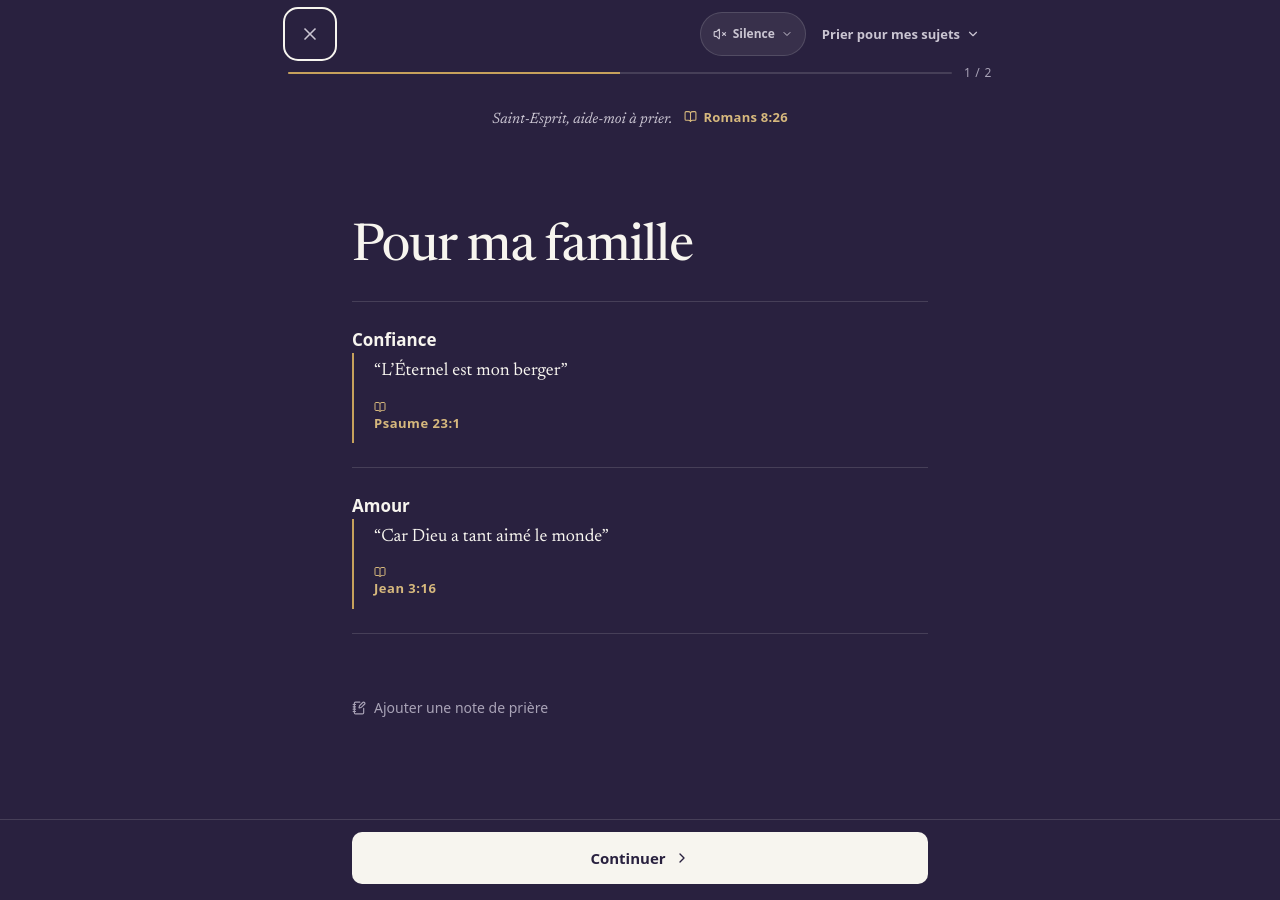
it: PrayerSession — format change protects progress › before any progress, switching restarts freely
What coordinates should you click on to do the following:
click the button titled "Format de prière"
I would click on:
 (901, 34)
Its box is [810,12,992,56].
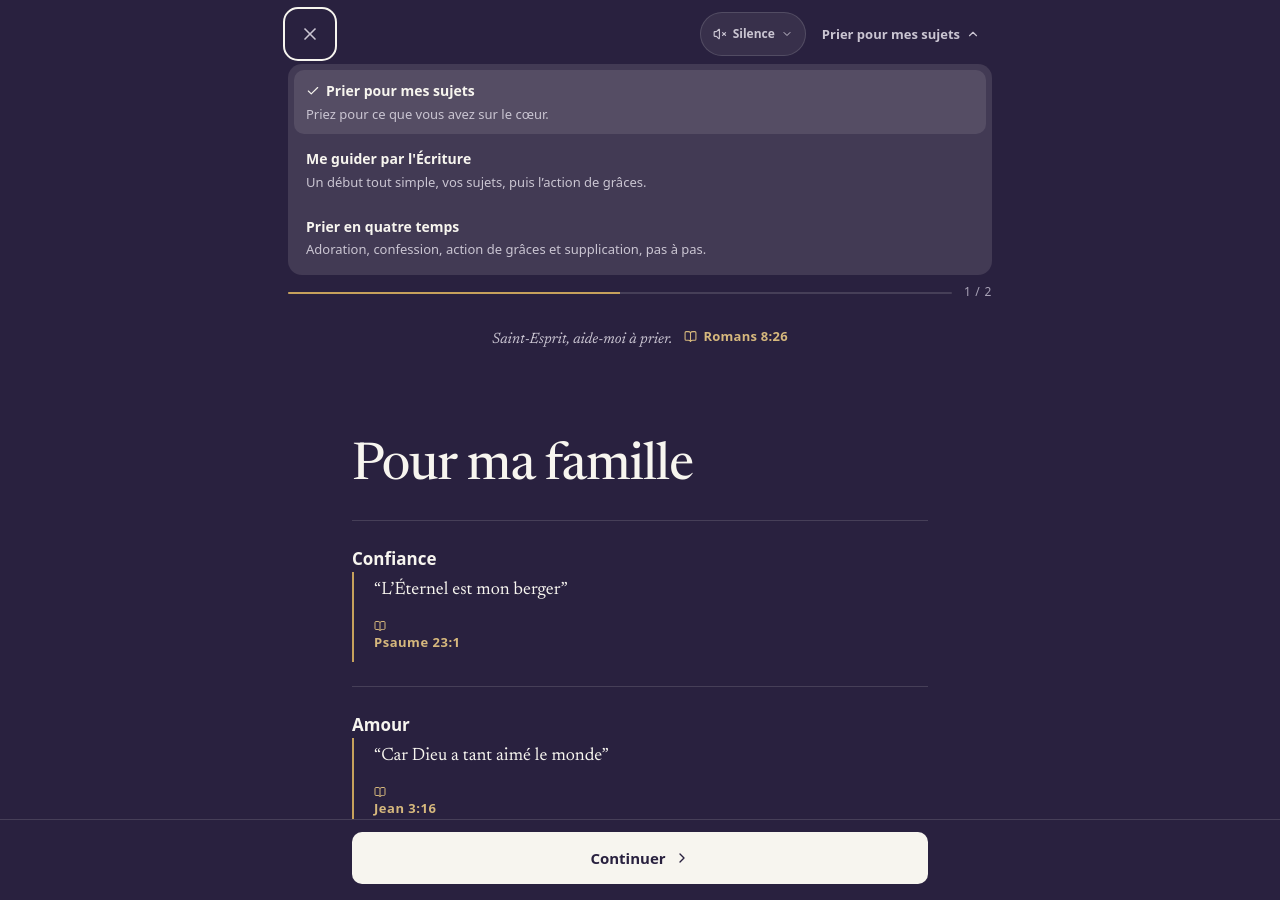
What coordinates should you click on to do the following:
click the text "Prier en quatre temps"
I would click on:
 (383, 226)
Its box is [306,217,459,236].
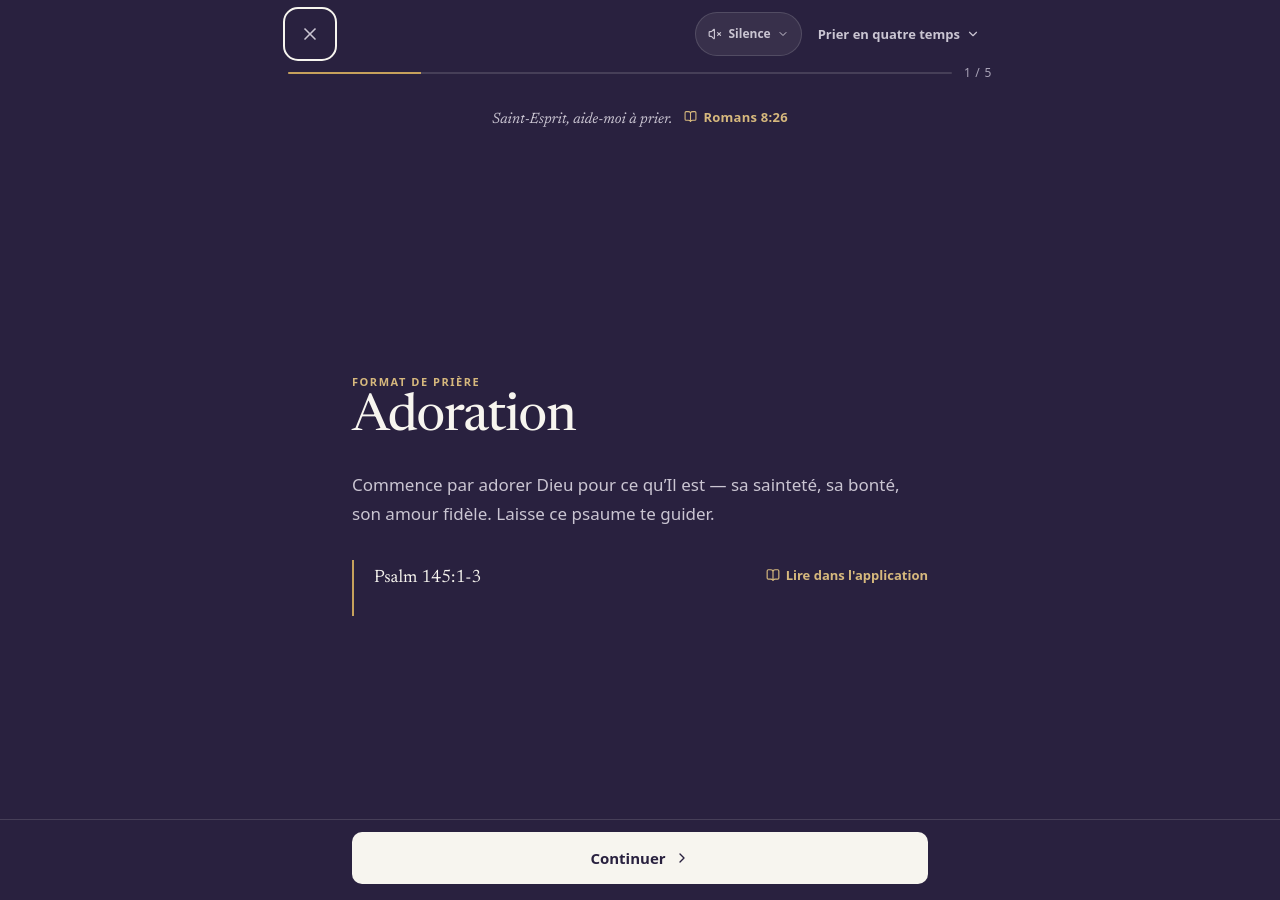
Expected: the heading "Adoration" is shown, [352,392,576,444]
What coordinates should you click on to do the following:
click the button titled "Format de prière"
I would click on:
 (899, 34)
Its box is [806,12,992,56].
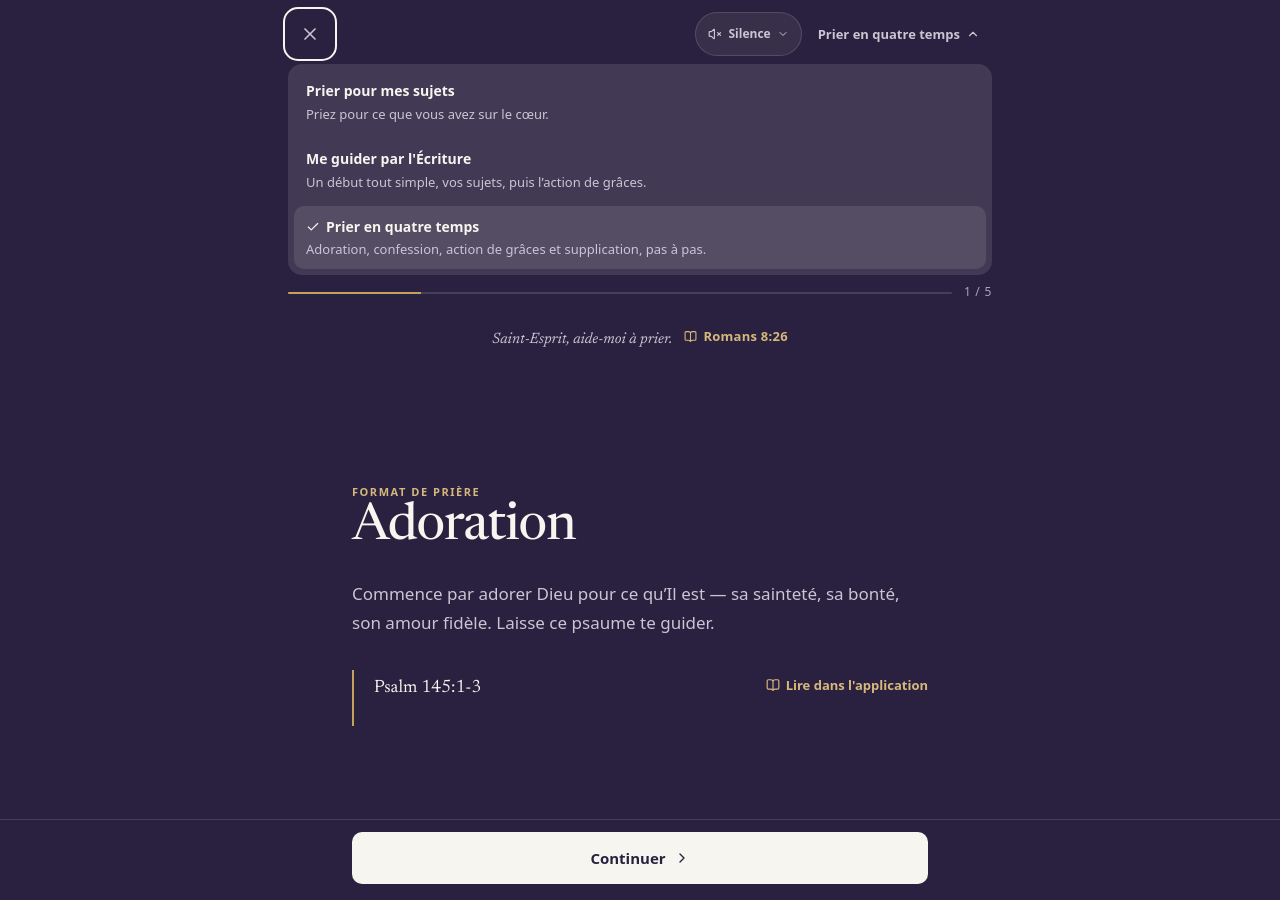
What coordinates should you click on to do the following:
click the text "Prier pour mes sujets"
I would click on:
 (380, 90)
Its box is [306,81,455,100].
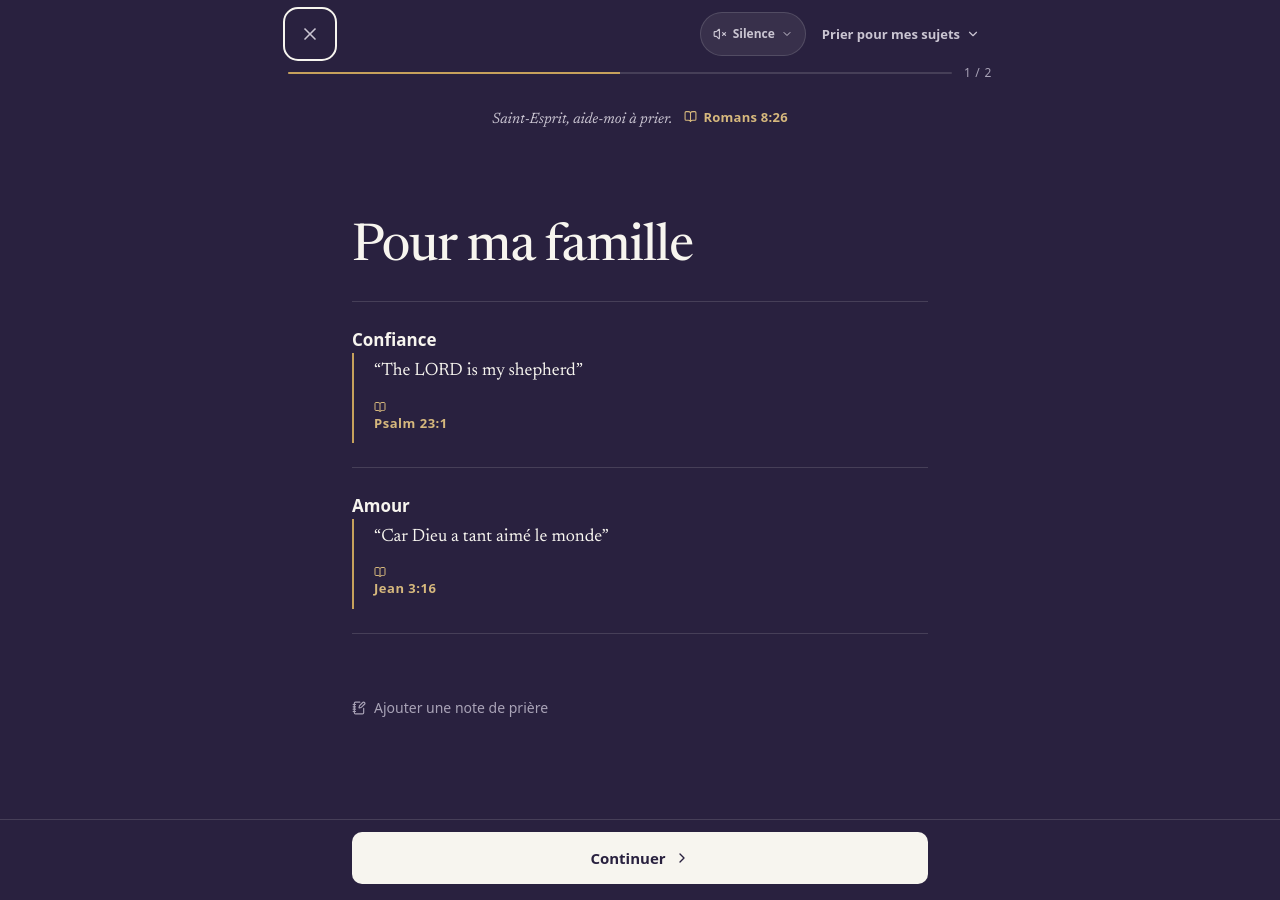
Expected: the heading "Pour ma famille" is shown, [352,222,693,274]
